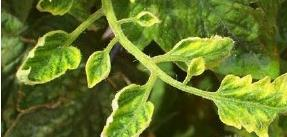Tomato leaf yellow virus: (207, 68, 287, 137), (17, 26, 86, 89), (163, 28, 236, 73), (99, 83, 159, 137), (86, 47, 113, 90)
